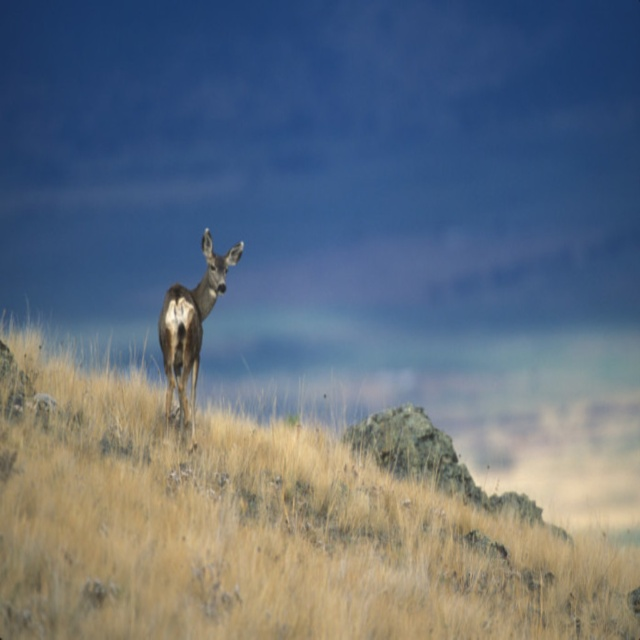Deer: (154, 219, 250, 459)
